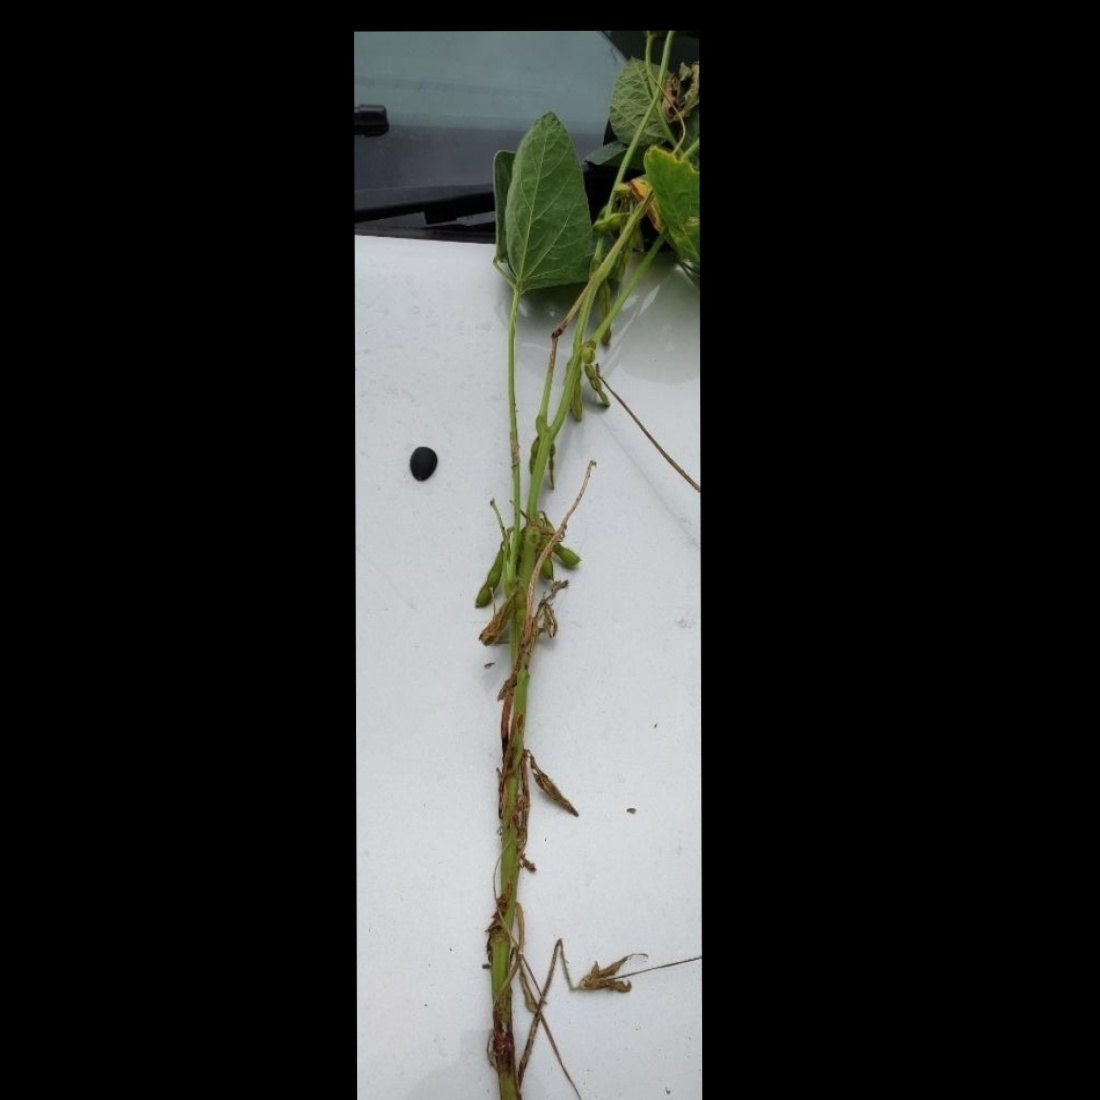pod: (472, 543, 502, 610), (581, 362, 609, 409), (589, 212, 627, 233), (552, 542, 584, 566)
soy: (427, 67, 685, 1100)
